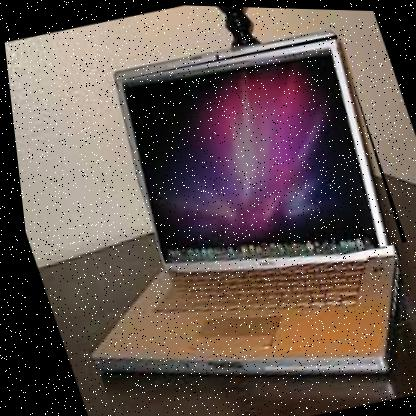Normal: (98, 27, 408, 295)
